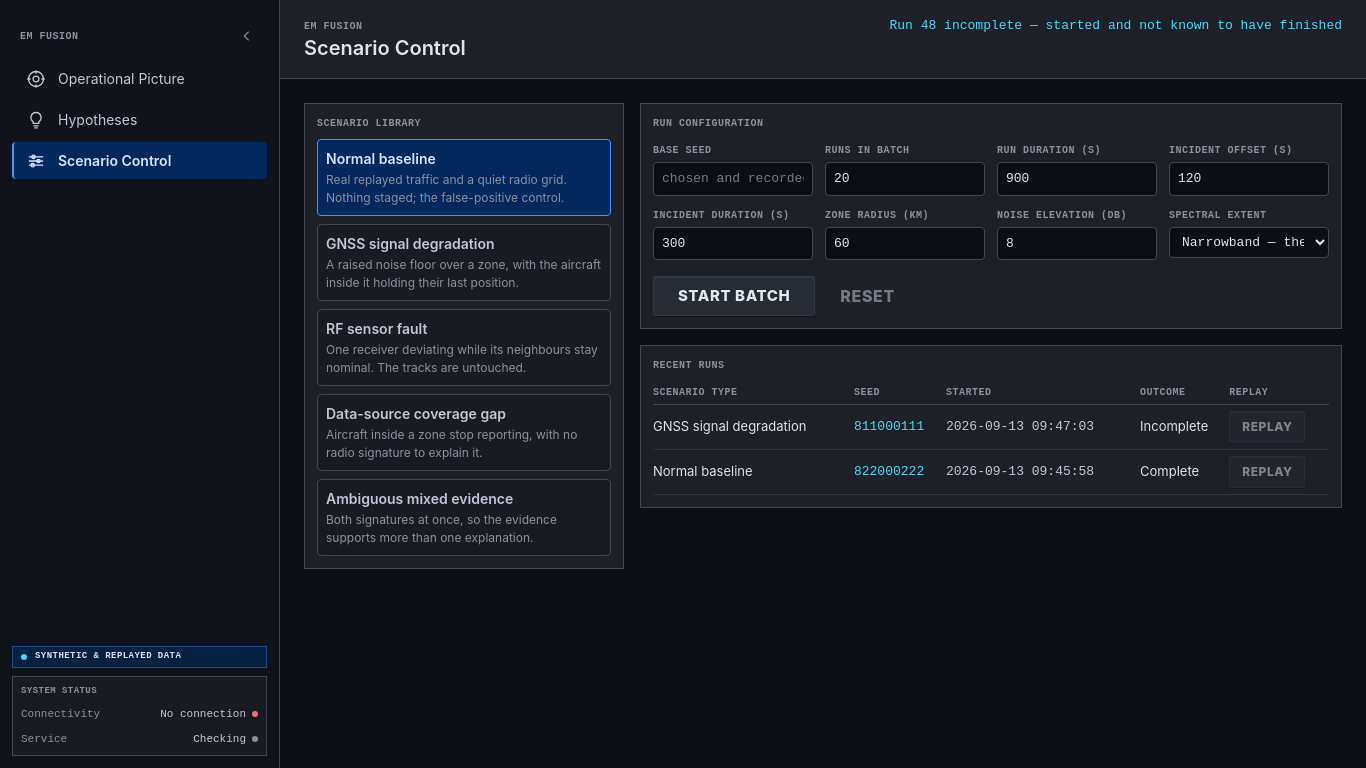
Test: the Scenario Control screen against the backend › starts a batch and names the seed the server used
Step 1. Click the button "Start batch" → (734, 296), box [653, 276, 815, 316]
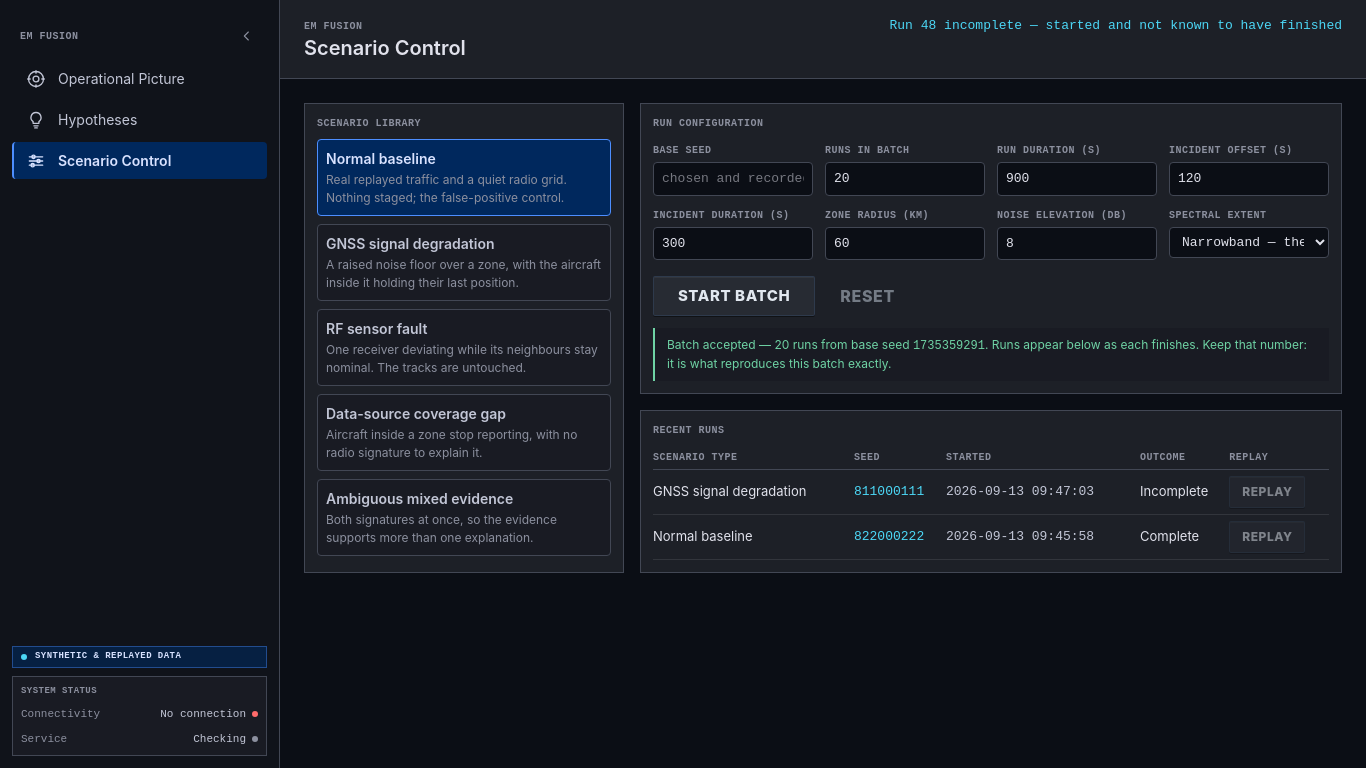
Result: the text "1735359291" is shown at [913, 339, 985, 353]
